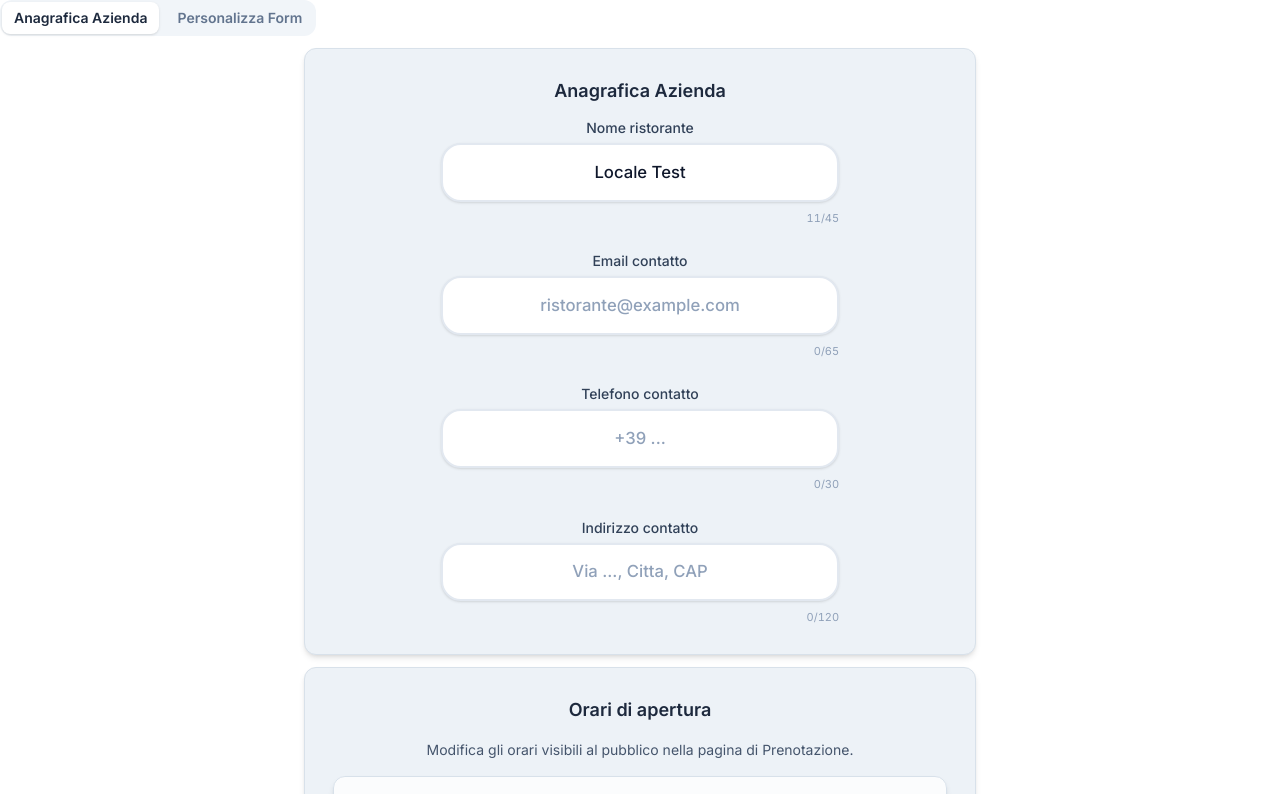
Test case: settings-save-guard M4 — footer, modale pubblica, guard › doppio click Salva nella modale pubblica non duplica mutation
Type "X" into the field labelled "Nome ristorante" at point(640, 172), box x1=441 y1=143 x2=839 y2=202
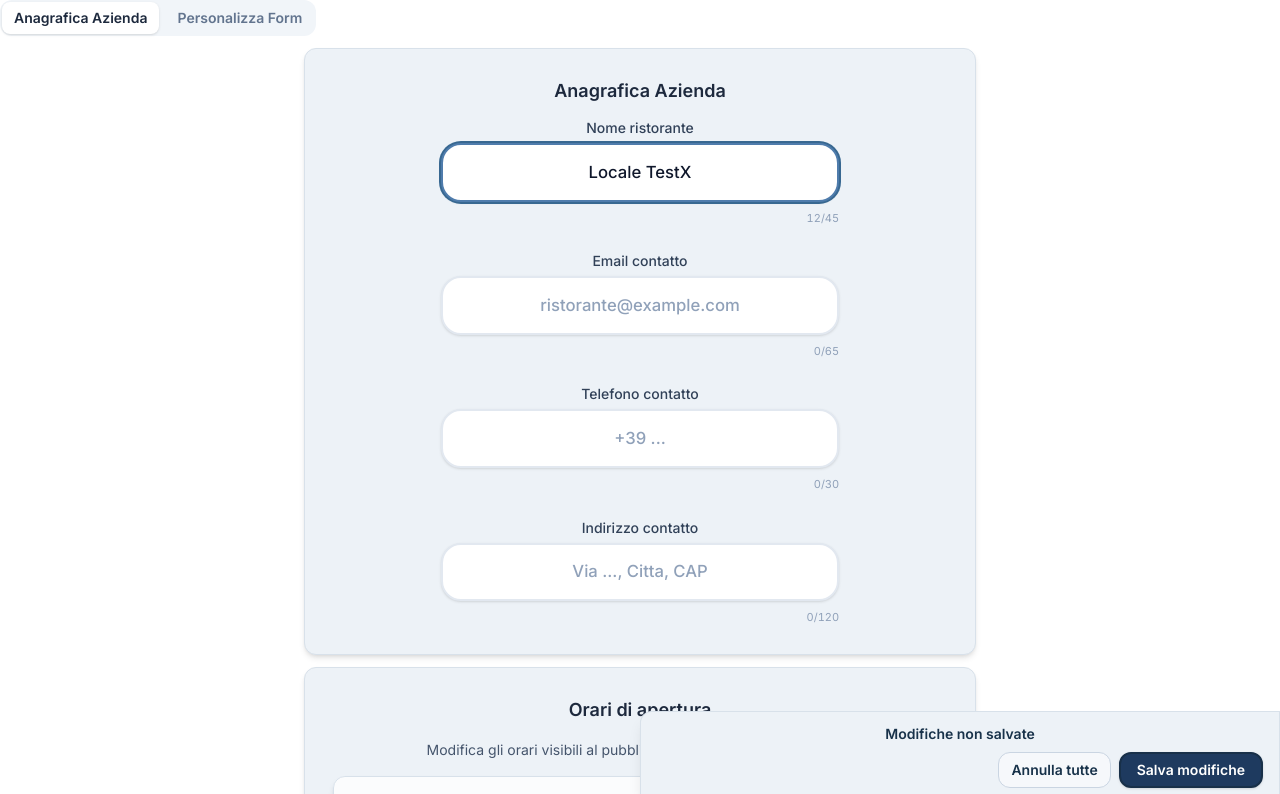
Click the button "Salva modifiche" at point(1191, 770), box x1=1119 y1=752 x2=1263 y2=788
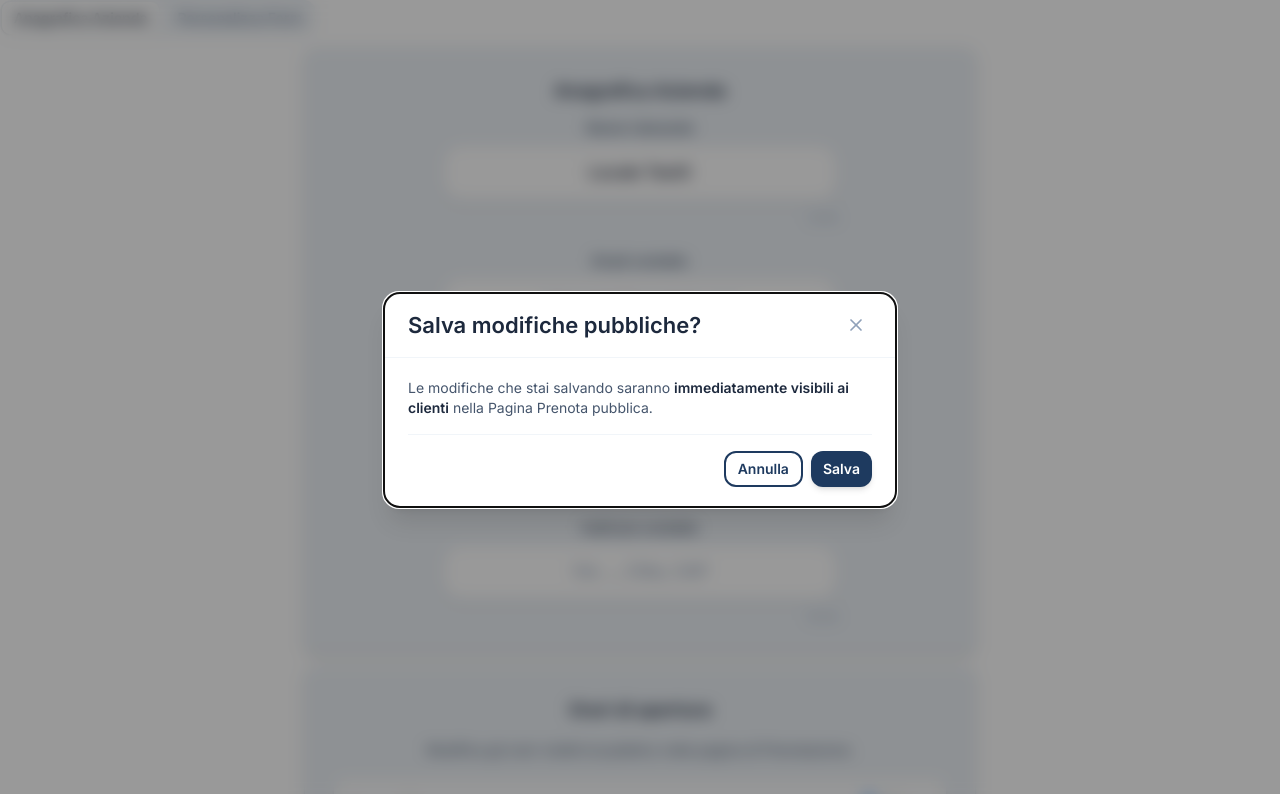
Click the button "Salva" at point(841, 469), box x1=811 y1=451 x2=872 y2=487
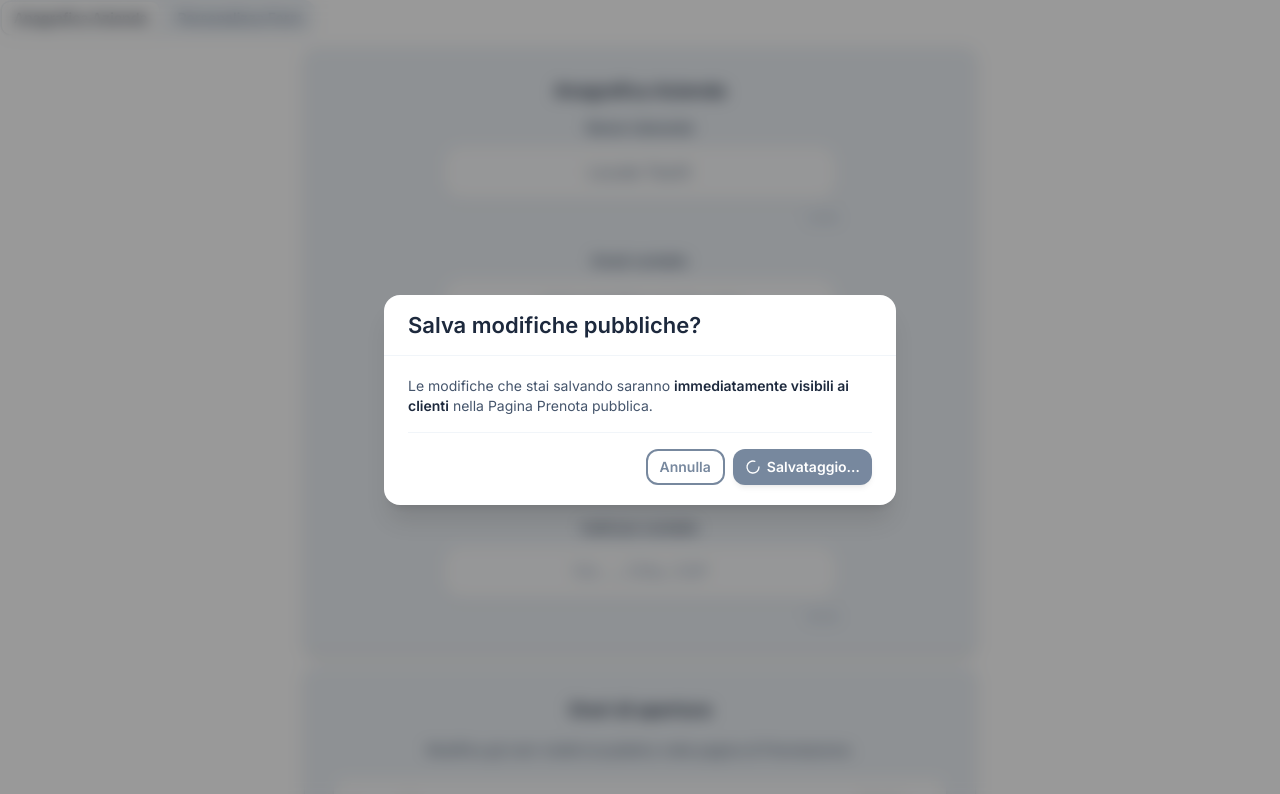
Click the button "Salvataggio…" at point(802, 467), box x1=733 y1=449 x2=872 y2=485
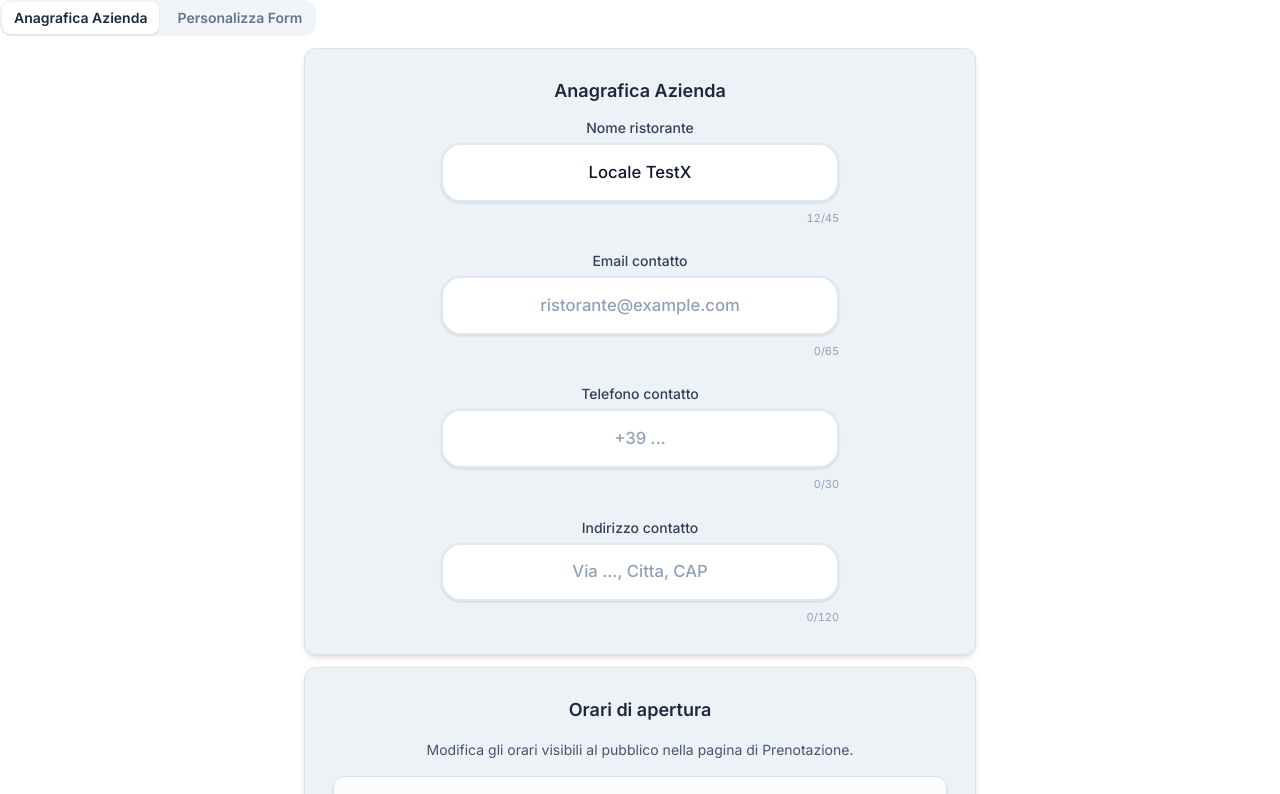
Now the heading "Salva modifiche pubbliche" is gone
